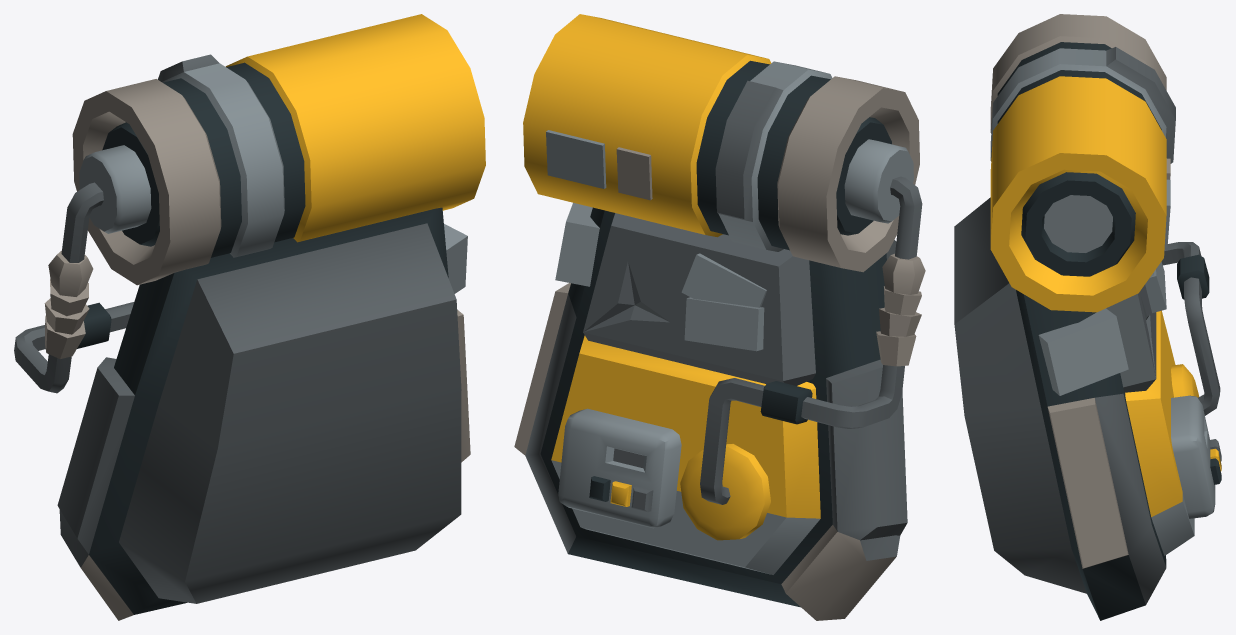
File: scrapbot_backpack.gltf.glb
The picture shows the model from 3 angles, left to right: view 1: azimuth 30°, elevation 25°; view 2: azimuth 150°, elevation 25°; view 3: azimuth 270°, elevation 25°; orthographic projection. The views are drawn at different scales.
Visible parts, largest first — view 1: scrapbot_backpack; view 2: scrapbot_backpack; view 3: scrapbot_backpack.
Boxes of the visible parts, <box> form: scrapbot_backpack: <box>14,14,485,620</box>; scrapbot_backpack: <box>514,14,925,620</box>; scrapbot_backpack: <box>954,14,1221,620</box>.
Bounding box in the file's own units: 0.6878 × 0.859 × 0.4271.
